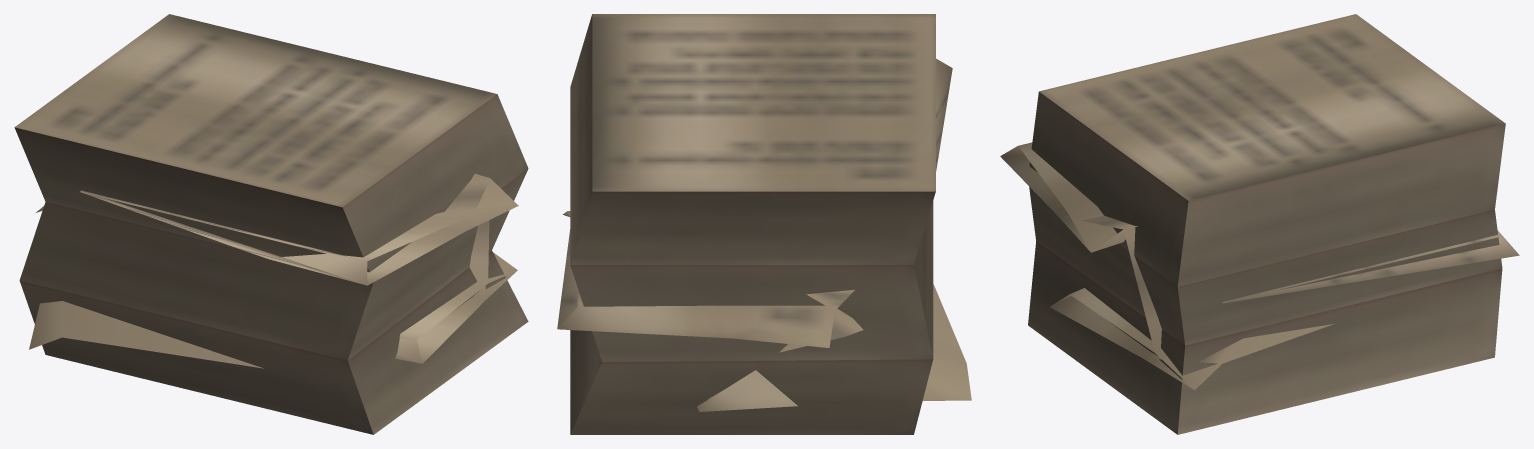
The model's file is papper.FBX.
3 renders of one model, left to right at view 1: azimuth 30°, elevation 25°; view 2: azimuth 150°, elevation 25°; view 3: azimuth 270°, elevation 25°, orthographic. The views are drawn at different scales.
Visible parts, largest first — view 1: papper; view 2: papper; view 3: papper.
Part boxes in pixels (box(x1,y1,x2,y2)): papper: box(14, 14, 528, 434); papper: box(557, 14, 971, 434); papper: box(1000, 14, 1519, 434).
Size of the model in its own units: 49.8 by 25.36 by 53.83.
